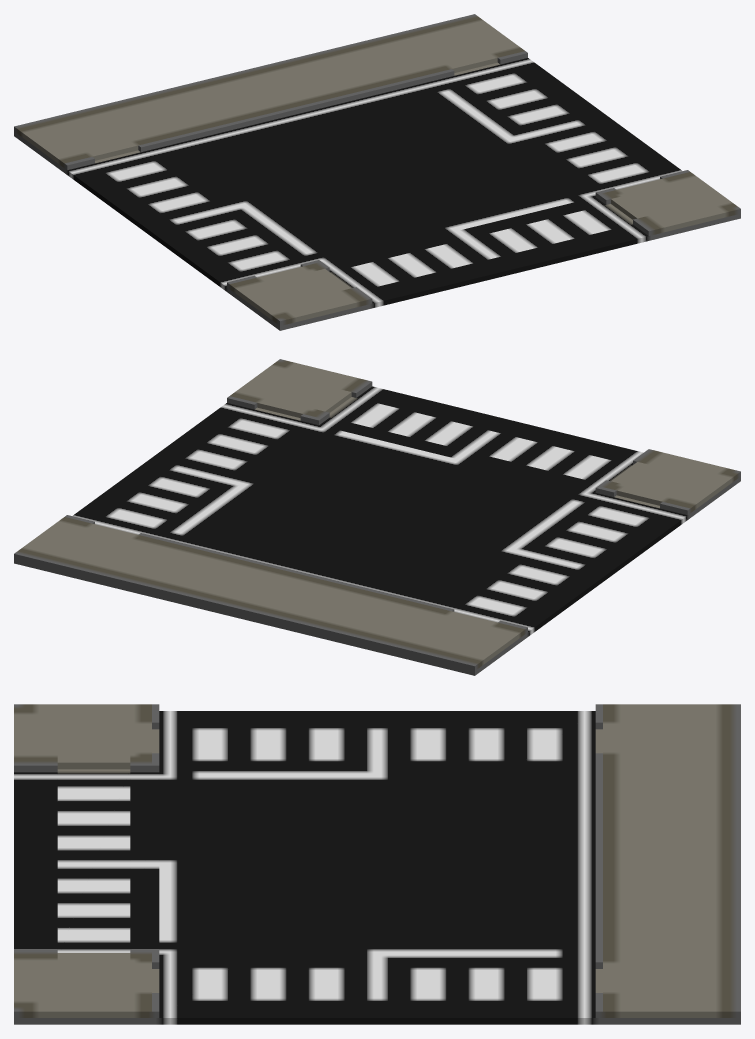
The model's file is Carretera3.fbx.
3 views of the same model, one above another, from view 1: azimuth 30°, elevation 25°; view 2: azimuth 150°, elevation 25°; view 3: azimuth 270°, elevation 25° (orthographic). The views are drawn at different scales.
Visible parts, largest first — view 1: Carretera4; view 2: Carretera4; view 3: Carretera4.
Boxes of the visible parts, <box> form: Carretera4: <box>14,14,740,330</box>; Carretera4: <box>14,359,740,675</box>; Carretera4: <box>14,704,740,1024</box>.
Bounding box in the file's own units: 100 × 2 × 100.
